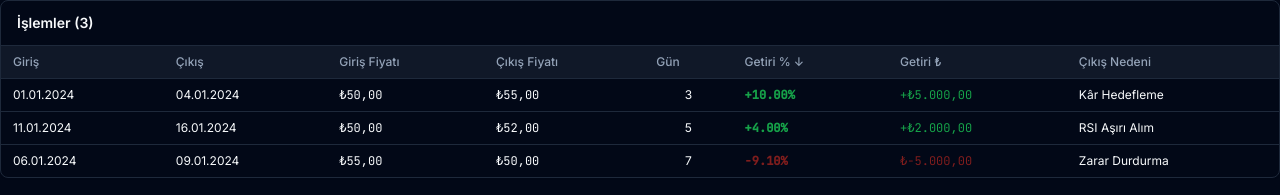
Test: BacktestTradesTable › toggles sort direction on repeated click
Step 1. Click the column heading "Gün" → (668, 62), box [644,46,733,78]
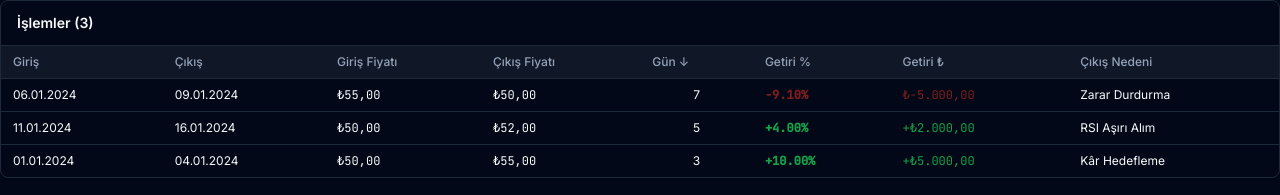
Step 2. Click the column heading "Gün" → (664, 62), box [640,46,753,78]
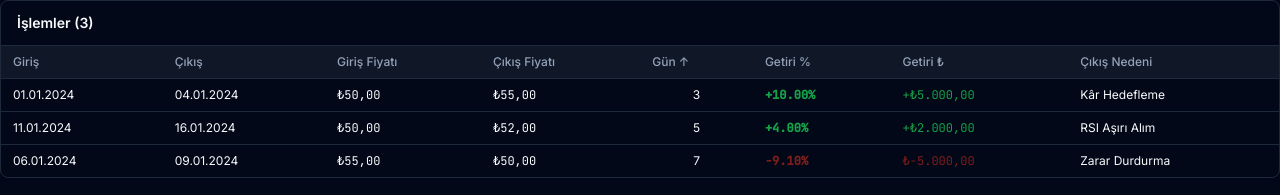
Check: the column heading "Gün ↑" is shown, box [640,46,753,78]
